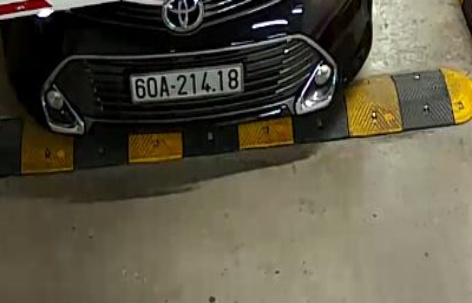plate: (130, 68, 245, 101)
